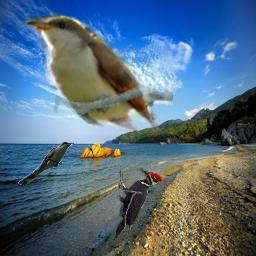Cuckoo: (21, 5, 173, 131), (18, 141, 74, 185)
Woodpecker: (114, 168, 163, 239)
